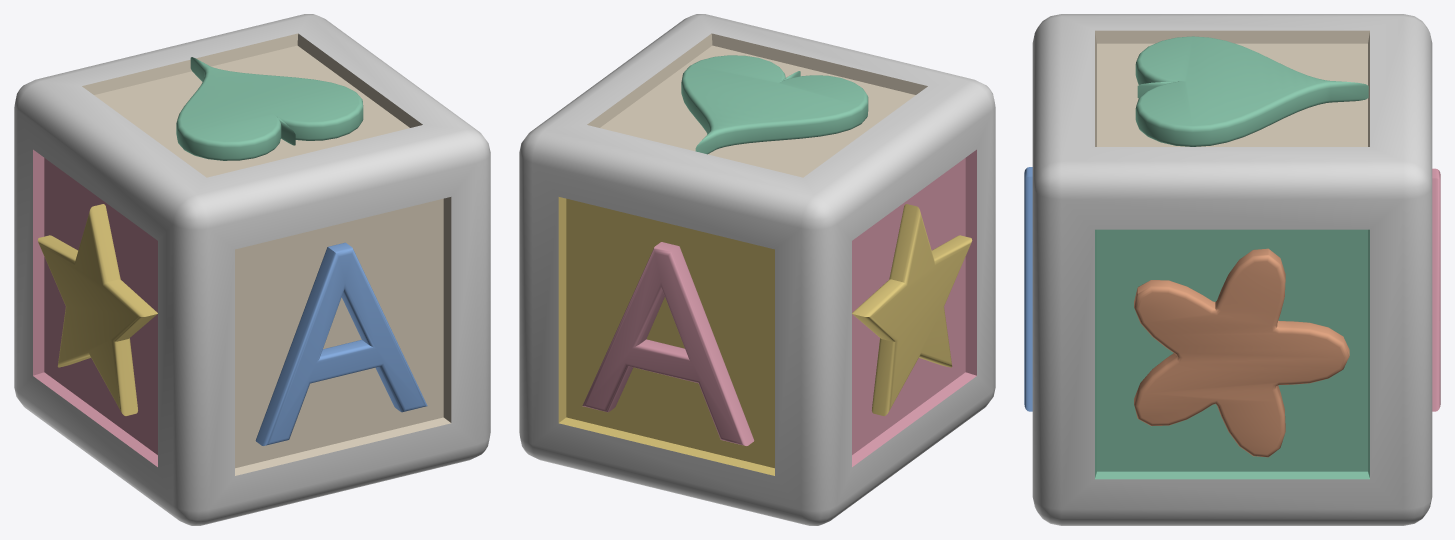
The model's file is W2_Block_A.fbx.
3 views of the same model, side by side, from view 1: azimuth 30°, elevation 25°; view 2: azimuth 150°, elevation 25°; view 3: azimuth 270°, elevation 25° (orthographic). The views are drawn at different scales.
Parts seen in each view (by area): view 1: W2_Block_A; view 2: W2_Block_A; view 3: W2_Block_A.
Part boxes in pixels (box(x1,y1,x2,y2)): W2_Block_A: box(14, 14, 490, 525); W2_Block_A: box(519, 14, 995, 525); W2_Block_A: box(1024, 14, 1440, 525).
Bounding box in the file's own units: 0.375 × 0.3675 × 0.375.
